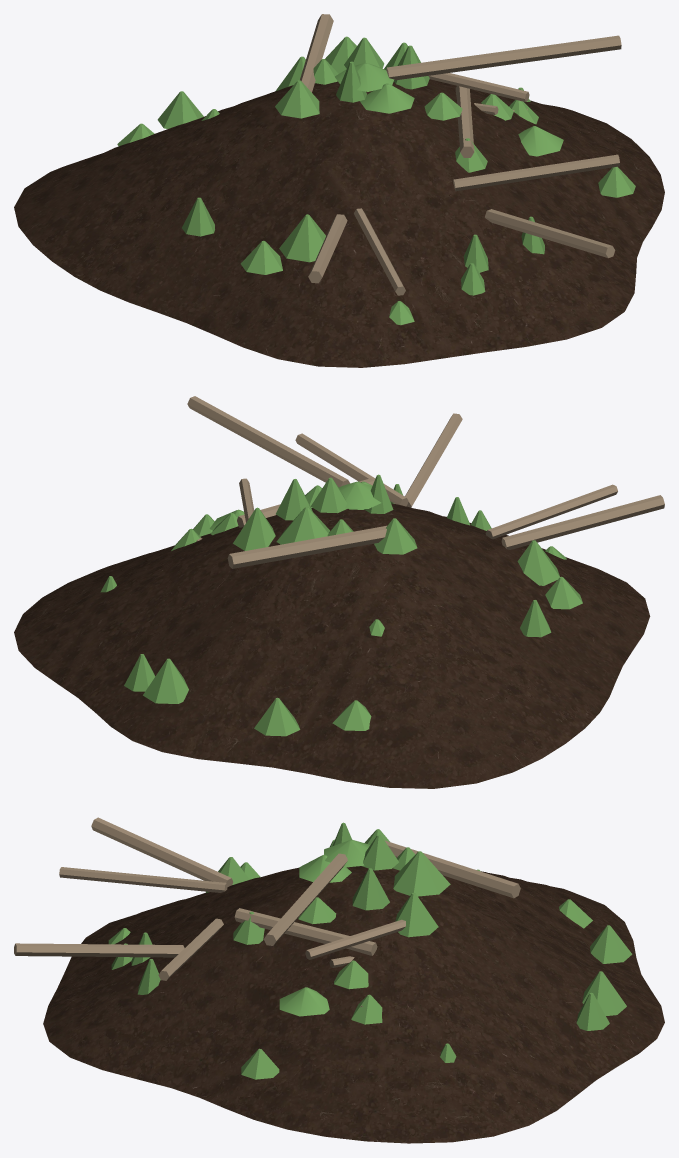
File: TER-LIM-001.glb
The picture shows the model from 3 angles, top to bottom: view 1: azimuth 30°, elevation 25°; view 2: azimuth 150°, elevation 25°; view 3: azimuth 270°, elevation 25°; orthographic projection. The views are drawn at different scales.
Visible parts, largest first — view 1: TER-LIM-001_monte, TER-LIM-001_galho0, TER-LIM-001_galho7, TER-LIM-001_galho5, TER-LIM-001_tufo0, TER-LIM-001_tufo3, TER-LIM-001_galho3, TER-LIM-001_galho1, TER-LIM-001_tufo5, TER-LIM-001_galho6, TER-LIM-001_galho9, TER-LIM-001_galho8 (+14 smaller); view 2: TER-LIM-001_monte, TER-LIM-001_galho3, TER-LIM-001_galho0, TER-LIM-001_galho9, TER-LIM-001_galho6, TER-LIM-001_tufo9, TER-LIM-001_galho7, TER-LIM-001_galho5, TER-LIM-001_tufo0, TER-LIM-001_tufo21, TER-LIM-001_tufo7, TER-LIM-001_tufo8 (+9 smaller); view 3: TER-LIM-001_monte, TER-LIM-001_galho5, TER-LIM-001_galho9, TER-LIM-001_galho6, TER-LIM-001_galho3, TER-LIM-001_tufo7, TER-LIM-001_galho8, TER-LIM-001_galho0, TER-LIM-001_galho1, TER-LIM-001_tufo21, TER-LIM-001_tufo2, TER-LIM-001_tufo8 (+14 smaller).
Boxes of the visible parts, box(x1,y1,x2,y2) form: TER-LIM-001_monte: box(14, 79, 664, 367); TER-LIM-001_galho0: box(386, 35, 621, 80); TER-LIM-001_galho7: box(453, 154, 619, 191); TER-LIM-001_galho5: box(485, 209, 615, 258); TER-LIM-001_tufo0: box(279, 214, 325, 262); TER-LIM-001_tufo3: box(275, 80, 319, 118); TER-LIM-001_galho3: box(300, 14, 333, 92); TER-LIM-001_galho1: box(428, 73, 529, 101); TER-LIM-001_tufo5: box(360, 83, 414, 113); TER-LIM-001_galho6: box(354, 208, 405, 295); TER-LIM-001_galho9: box(308, 214, 347, 283); TER-LIM-001_galho8: box(455, 86, 474, 157); TER-LIM-001_monte: box(14, 503, 650, 788); TER-LIM-001_galho3: box(227, 525, 386, 568); TER-LIM-001_galho0: box(187, 396, 349, 487); TER-LIM-001_galho9: box(501, 495, 664, 549); TER-LIM-001_galho6: box(485, 484, 617, 539); TER-LIM-001_tufo9: box(143, 658, 188, 703); TER-LIM-001_galho7: box(295, 433, 408, 506); TER-LIM-001_galho5: box(405, 413, 462, 507); TER-LIM-001_tufo0: box(517, 540, 559, 585); TER-LIM-001_tufo21: box(233, 507, 275, 550); TER-LIM-001_tufo7: box(276, 506, 329, 544); TER-LIM-001_tufo8: box(254, 697, 300, 736); TER-LIM-001_monte: box(43, 866, 664, 1143); TER-LIM-001_galho5: box(14, 943, 184, 957); TER-LIM-001_galho9: box(91, 817, 233, 887); TER-LIM-001_galho6: box(59, 867, 227, 892); TER-LIM-001_galho3: box(385, 840, 520, 898); TER-LIM-001_tufo7: box(393, 851, 450, 896); TER-LIM-001_galho8: box(234, 908, 377, 955); TER-LIM-001_galho0: box(263, 853, 347, 945); TER-LIM-001_galho1: box(305, 919, 405, 959); TER-LIM-001_tufo21: box(395, 893, 438, 937); TER-LIM-001_tufo2: box(279, 987, 329, 1016); TER-LIM-001_tufo8: box(590, 925, 632, 963).
Size of the model in its own units: 1.61 by 0.498 by 1.68.
Materials: 3 (1 with a texture image).
